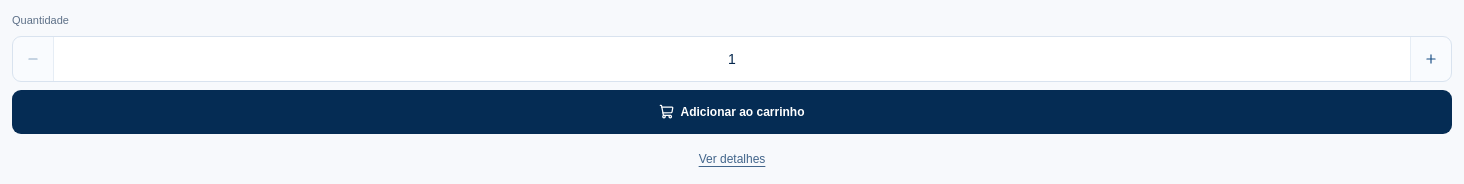
Test: manual checkout and card quantities › uses only the remaining stock when adding a chosen quantity
Replace the text in the number field named "Quantidade de Produto teste" with "99": (732, 59) x1=53 y1=37 x2=1411 y2=81
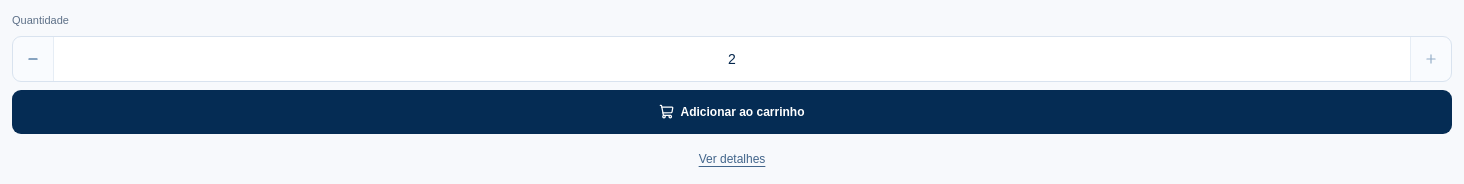
Now the number field named "Quantidade de Produto teste" holds "2", box x1=53 y1=37 x2=1411 y2=81
Click the button with aria-label "Adicionar ao carrinho: Produto teste": (732, 112) x1=12 y1=90 x2=1452 y2=134
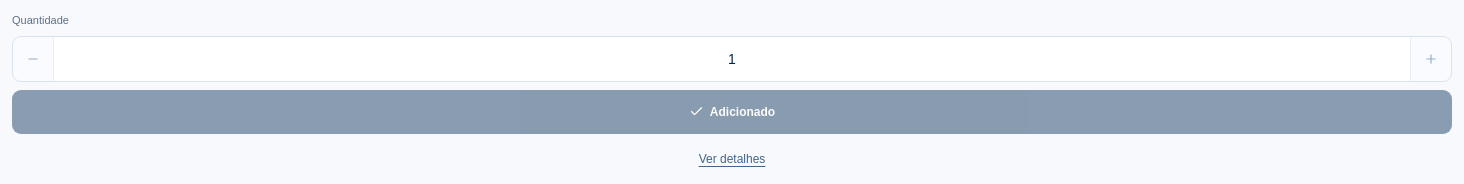
Now the button with aria-label "Adicionar ao carrinho: Produto teste" is disabled, box x1=12 y1=90 x2=1452 y2=134
